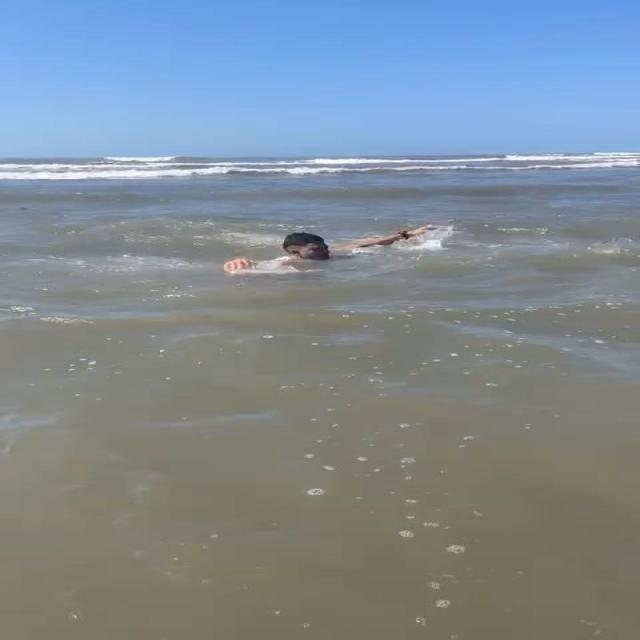Out of Water: (218, 222, 443, 278)
